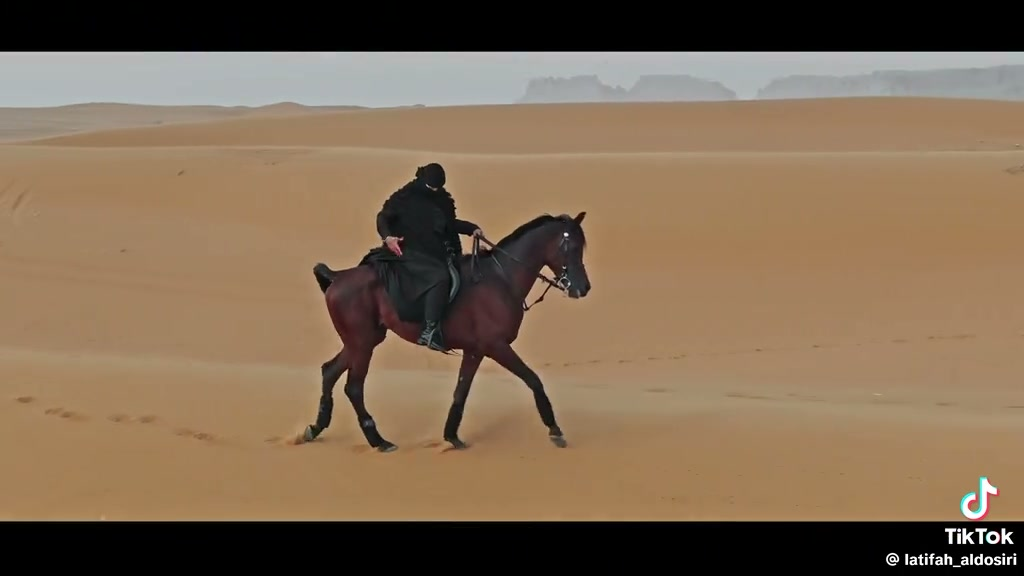animal_foot_print: (542, 334, 978, 367), (107, 413, 165, 426), (42, 406, 88, 421), (105, 413, 161, 425), (173, 427, 216, 442), (43, 408, 88, 421), (264, 433, 306, 445), (107, 414, 157, 423), (14, 396, 35, 404)
